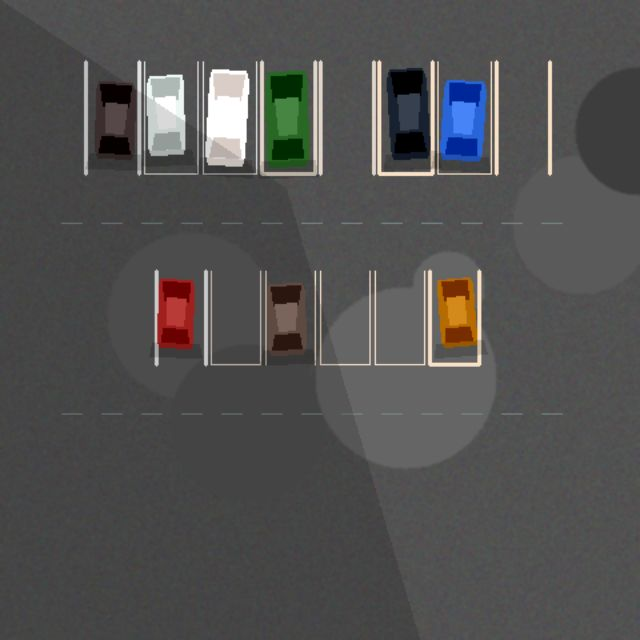space-empty: (320, 61, 373, 173), (496, 61, 549, 173), (211, 271, 260, 364), (320, 271, 369, 364), (375, 271, 424, 364)
space-occupied: (85, 61, 139, 173), (261, 61, 315, 173), (437, 61, 491, 173), (144, 61, 197, 173), (203, 61, 256, 173), (379, 61, 432, 173), (265, 271, 315, 364), (429, 271, 479, 364), (156, 271, 205, 364)
